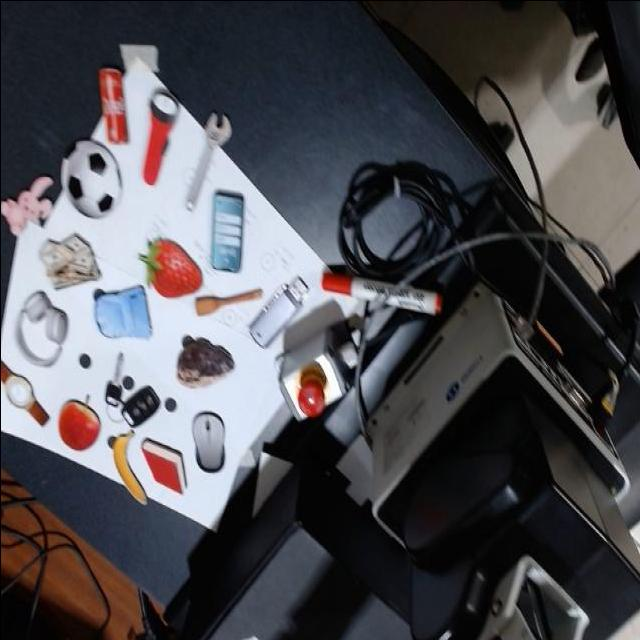Other Objects: (0, 45, 356, 533), (317, 268, 441, 326), (90, 350, 163, 446), (169, 106, 235, 212), (244, 267, 311, 353), (133, 86, 180, 190), (60, 140, 119, 216), (0, 352, 47, 437), (36, 229, 99, 292), (18, 291, 66, 366), (0, 175, 53, 237), (94, 286, 150, 338), (175, 339, 233, 389), (107, 431, 148, 501), (210, 191, 243, 272), (111, 431, 146, 505), (193, 280, 260, 317), (96, 66, 125, 146), (56, 400, 99, 451), (192, 412, 223, 471), (138, 592, 167, 640)
